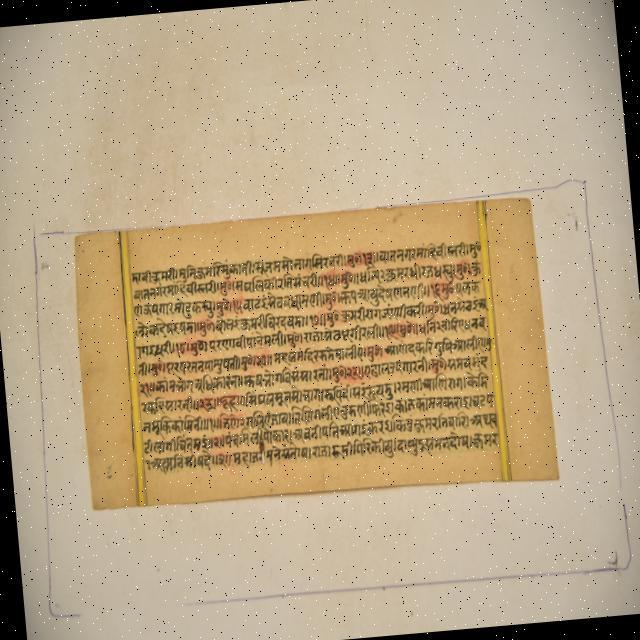text_paragraph: (77, 195, 557, 507)
